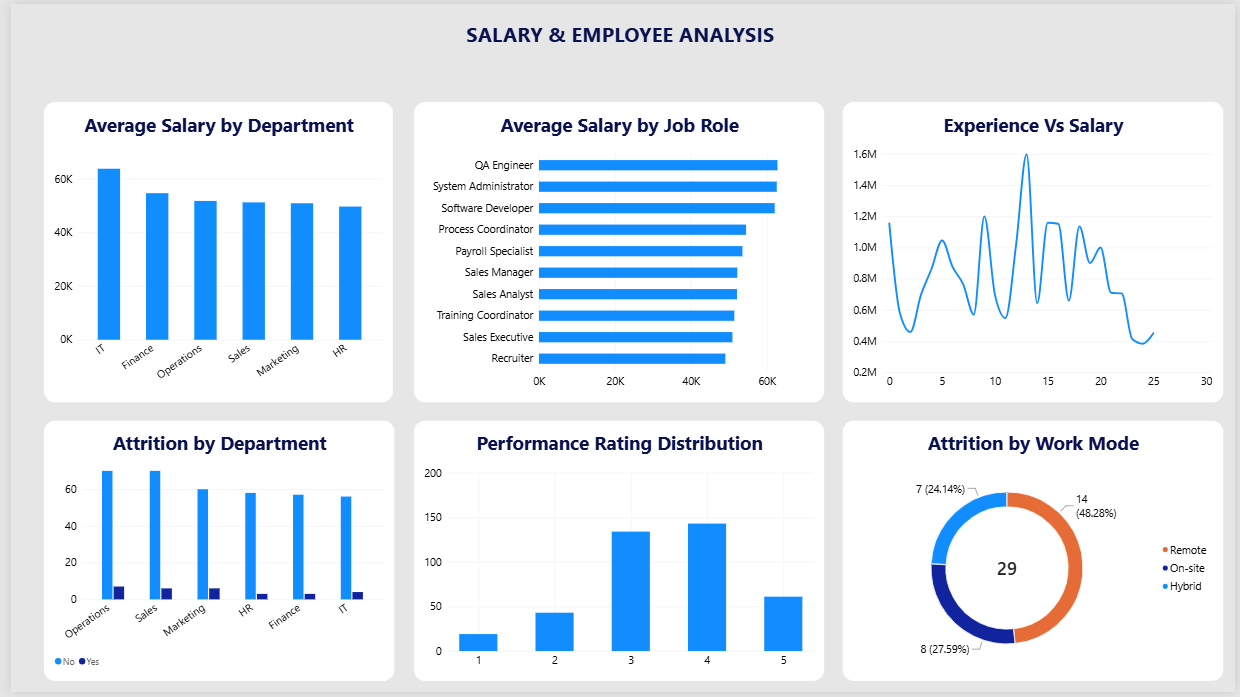

This screenshot's page, from the dashboard's own definition file:
{"tool":"powerbi","page":{"name":"Salary & Employee Analysis","canvas":[1920,1080],"ordinal":1},"visuals":[{"type":"textbox","box":[10,26,1892,70],"z":0},{"type":"clusteredColumnChart","title":"Average Salary by Department","fields":{"Category":["HR_Employee_Data_400.Department"],"Y":["Avg(HR_Employee_Data_400.Salary)"]},"box":[51,152.9,549,472.5],"z":1000},{"type":"barChart","title":"Average Salary by Job Role","fields":{"Category":["HR_Employee_Data_400.Job_Role"],"Y":["Avg(HR_Employee_Data_400.Salary)"]},"box":[631.4,152.9,645.1,472.5],"z":2000},{"type":"lineChart","title":"Experience Vs Salary","fields":{"Category":["HR_Employee_Data_400.Years_of_Experience"],"Y":["Sum(HR_Employee_Data_400.Salary)"]},"box":[1303.9,152.9,598,472.5],"z":3000},{"type":"clusteredColumnChart","title":"Attrition by Department","fields":{"Category":["HR_Employee_Data_400.Department"],"Series":["HR_Employee_Data_400.Attrition"],"Y":["CountNonNull(HR_Employee_Data_400.Employee_ID)"]},"box":[51,652.9,551,409.8],"z":4000},{"type":"clusteredColumnChart","title":"Performance Rating Distribution","fields":{"Category":["HR_Employee_Data_400.Performance_Rating"],"Y":["CountNonNull(HR_Employee_Data_400.Employee_ID)"]},"box":[631.4,652.9,645.1,409.8],"z":5000},{"type":"donutChart","title":"Attrition by Work Mode","fields":{"Category":["HR_Employee_Data_400.Work_Mode"],"Y":["CountNonNull(HR_Employee_Data_400.Employee_ID)"]},"box":[1303.9,652.9,598,409.8],"z":6000}]}

Visuals, with their boxes in screenshot pixels (x1, y1, x2, y2), scaled from the page's 1920x1080 canvas onto the 1240x697 screenshot:
textbox: box(6, 17, 1228, 62)
"Average Salary by Department" clusteredColumnChart: box(33, 99, 388, 404)
"Average Salary by Job Role" barChart: box(408, 99, 824, 404)
"Experience Vs Salary" lineChart: box(842, 99, 1228, 404)
"Attrition by Department" clusteredColumnChart: box(33, 421, 389, 686)
"Performance Rating Distribution" clusteredColumnChart: box(408, 421, 824, 686)
"Attrition by Work Mode" donutChart: box(842, 421, 1228, 686)
